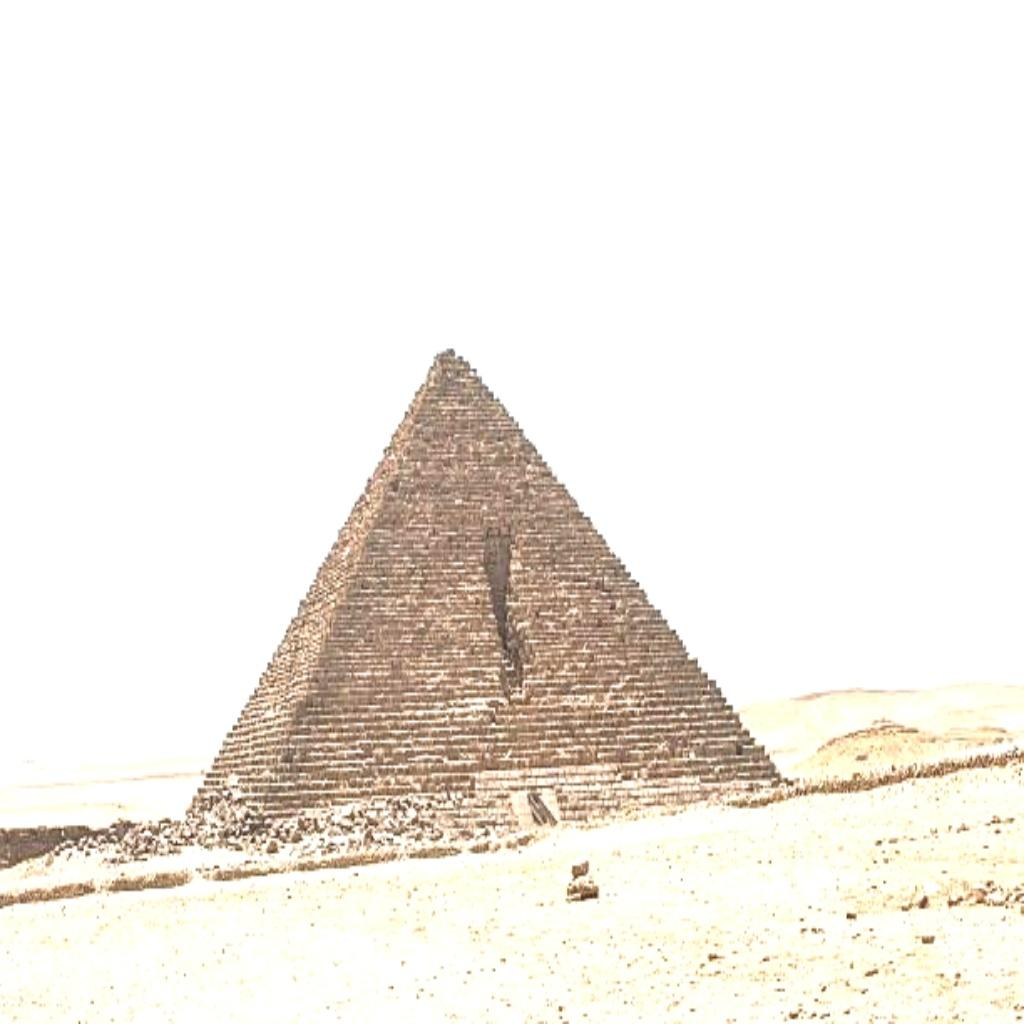Great Pyramids of Giza: (184, 342, 791, 846)
